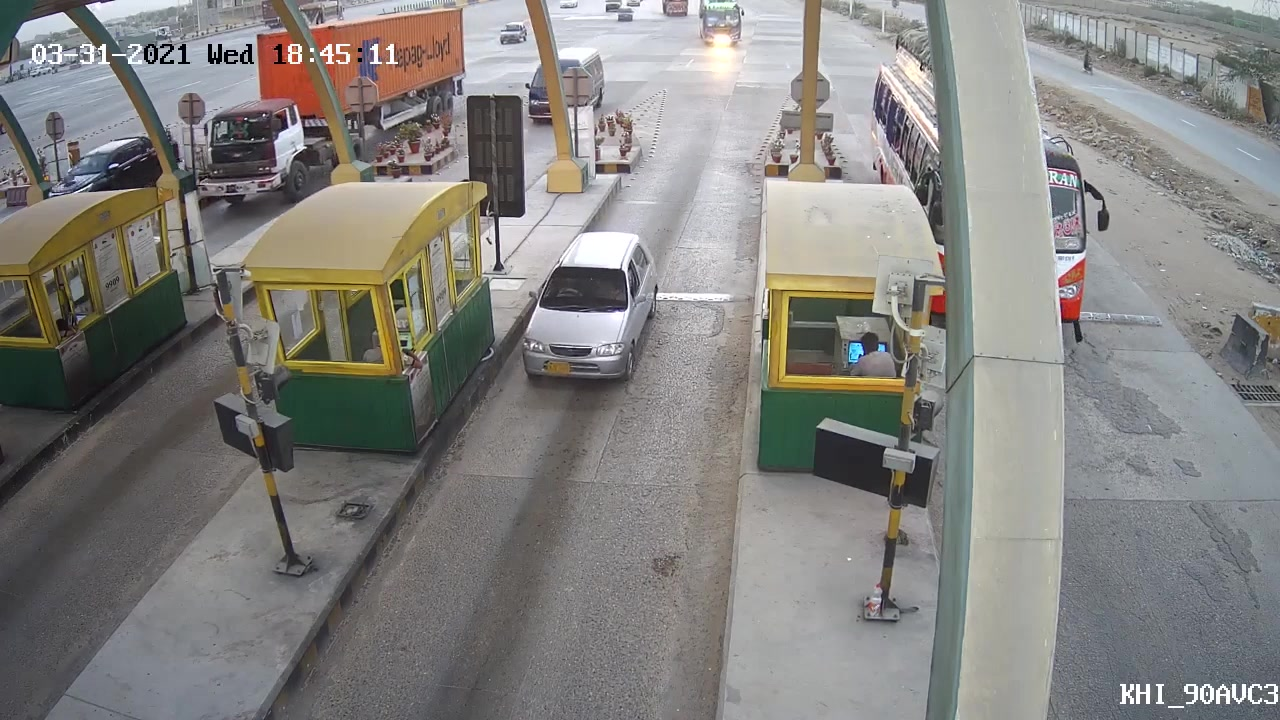F1: (510, 225, 678, 381)
